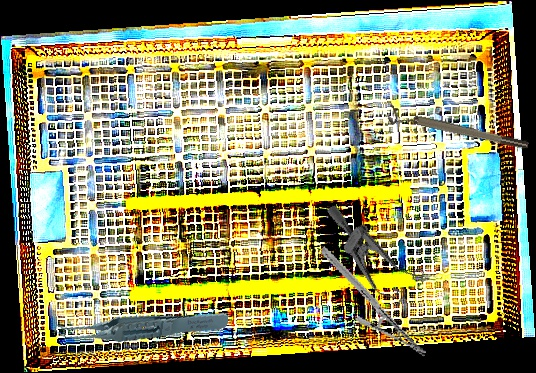Fixation Ring: (385, 104, 530, 158)
Needle Holder: (300, 245, 447, 359)
Speculum: (303, 203, 437, 314)
Tissue Forceps: (49, 283, 230, 365)
